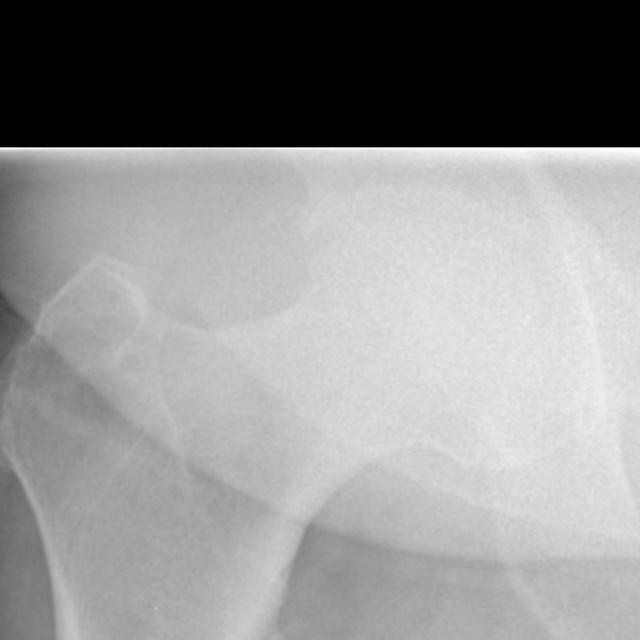Fitted_femural_head: (273, 216, 432, 273)
